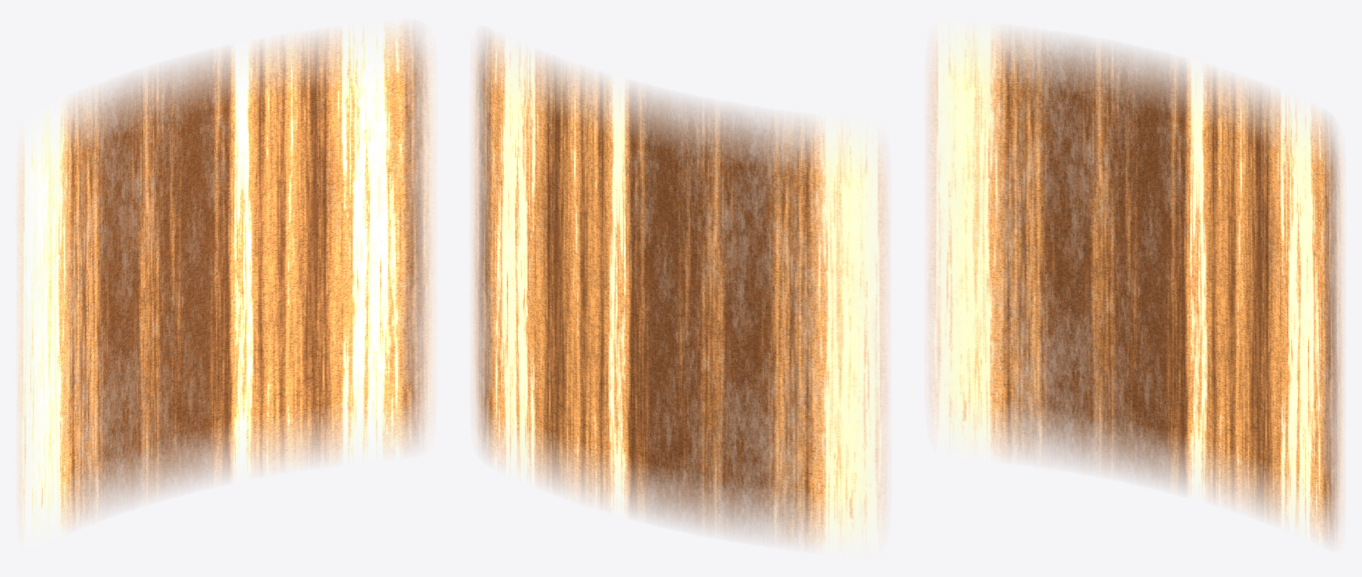
The model's file is mwm_fall_seg.glb.
3 views of the same model, side by side, from view 1: azimuth 30°, elevation 25°; view 2: azimuth 150°, elevation 25°; view 3: azimuth 330°, elevation 25° (orthographic).
Size of the model in its own units: 1 by 1 by 0.1.
Materials: 1 (1 with a texture image).
